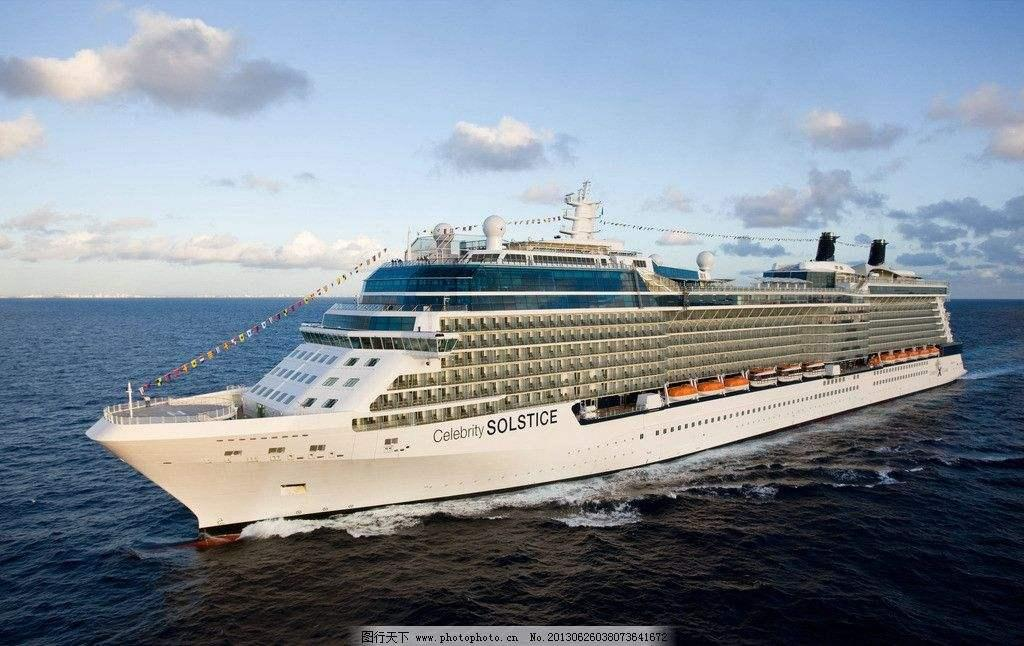youlun: (83, 190, 962, 536)
